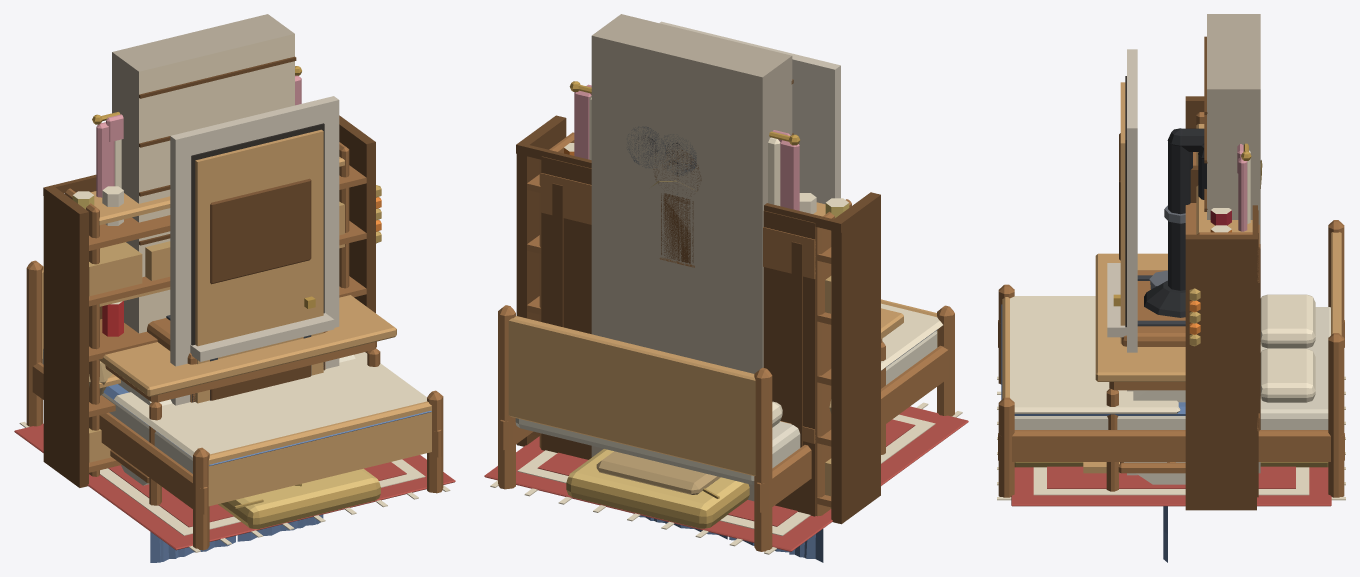
The model's file is maison.glb.
The picture shows the model from 3 angles, left to right: view 1: azimuth 30°, elevation 25°; view 2: azimuth 150°, elevation 25°; view 3: azimuth 270°, elevation 25°; orthographic projection. The views are drawn at different scales.
Visible parts, largest first — view 1: kit_door, double_bed, cellar_rack, table, rug, straw_mattress, shelf, kit_window, curtains, kit_wall_wood, curtains_blue_closed, oak_chest; view 2: kit_door, double_bed, cellar_rack, shelf, rug, straw_mattress, tool_rack, curtains, wall_clock, kit_window, table, curtains_blue_closed (+1 smaller); view 3: double_bed, cellar_rack, kit_door, rug, table, wood_stove, oak_chest, shelf, mattress, curtains, kit_window, straw_mattress (+3 smaller).
Part boxes in pixels (left/top/right/bottom): kit_door: left=112, top=14, right=339, bottom=405; double_bed: left=26, top=260, right=443, bottom=550; cellar_rack: left=43, top=115, right=381, bottom=487; table: left=99, top=295, right=396, bottom=505; rug: left=14, top=421, right=455, bottom=552; straw_mattress: left=218, top=468, right=380, bottom=529; shelf: left=64, top=142, right=349, bottom=476; kit_window: left=190, top=313, right=334, bottom=361; curtains: left=92, top=66, right=301, bottom=197; kit_wall_wood: left=139, top=56, right=296, bottom=245; curtains_blue_closed: left=160, top=517, right=316, bottom=561; oak_chest: left=147, top=315, right=327, bottom=402; kit_door: left=591, top=14, right=840, bottom=501; double_bed: left=498, top=299, right=954, bottom=551; cellar_rack: left=516, top=115, right=880, bottom=524; shelf: left=539, top=132, right=851, bottom=516; rug: left=484, top=402, right=968, bottom=554; straw_mattress: left=566, top=449, right=749, bottom=528; tool_rack: left=540, top=173, right=815, bottom=447; curtains: left=569, top=81, right=800, bottom=210; wall_clock: left=653, top=149, right=701, bottom=267; kit_window: left=792, top=109, right=811, bottom=193; table: left=881, top=308, right=903, bottom=454; curtains_blue_closed: left=639, top=515, right=823, bottom=562; double_bed: left=998, top=220, right=1344, bottom=497; cellar_rack: left=1185, top=96, right=1257, bottom=510; kit_door: left=1113, top=14, right=1260, bottom=475; rug: left=997, top=376, right=1345, bottom=506; table: left=1095, top=253, right=1185, bottom=491; wood_stove: left=1144, top=128, right=1204, bottom=317; oak_chest: left=1120, top=270, right=1185, bottom=463; shelf: left=1196, top=112, right=1258, bottom=497; mattress: left=1124, top=390, right=1185, bottom=484; curtains: left=1237, top=143, right=1251, bottom=231; kit_window: left=1107, top=263, right=1126, bottom=337; straw_mattress: left=1014, top=462, right=1328, bottom=467.
Size of the model in its own units: 1.96 by 2.91 by 1.96.
Materials: 1 (1 with a texture image).
